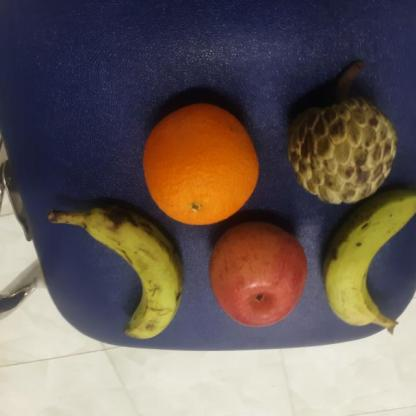annona: (286, 97, 399, 210)
apple: (206, 222, 310, 329)
banana: (74, 205, 186, 342), (320, 186, 416, 331)
orange: (140, 100, 264, 226)
